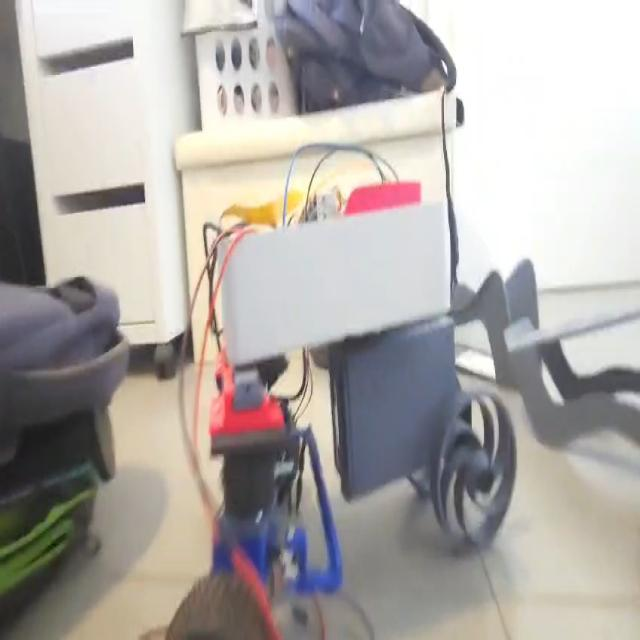Robot: (164, 177, 516, 640)
